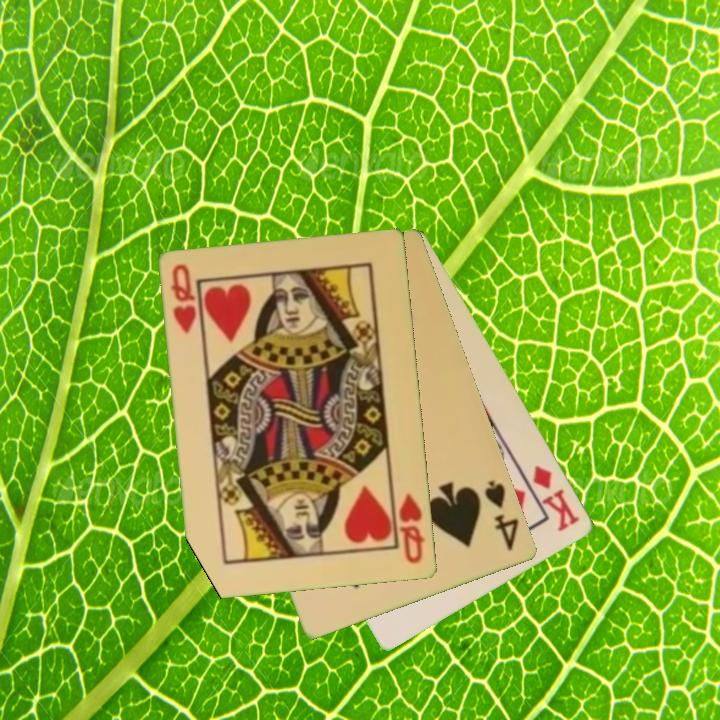4s: (481, 476, 523, 554)
Kd: (530, 461, 583, 535)
Qh: (167, 261, 200, 337), (396, 489, 428, 567)
